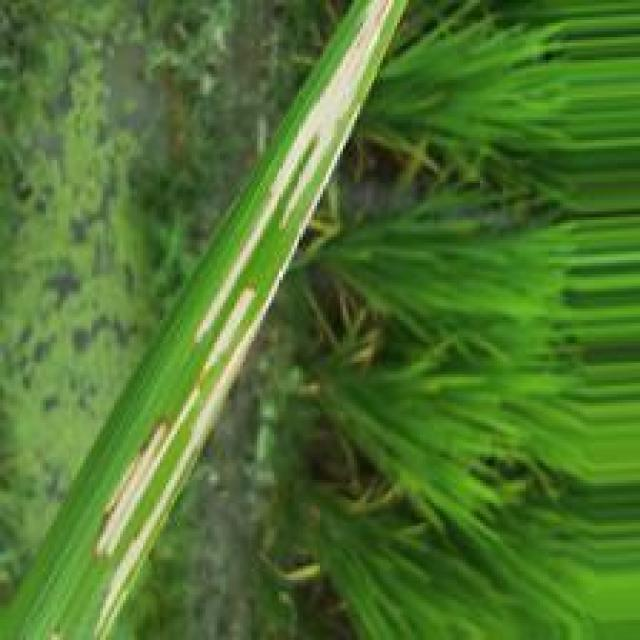Rice_Hispa: (187, 0, 398, 343), (92, 293, 280, 639), (92, 281, 263, 569)
